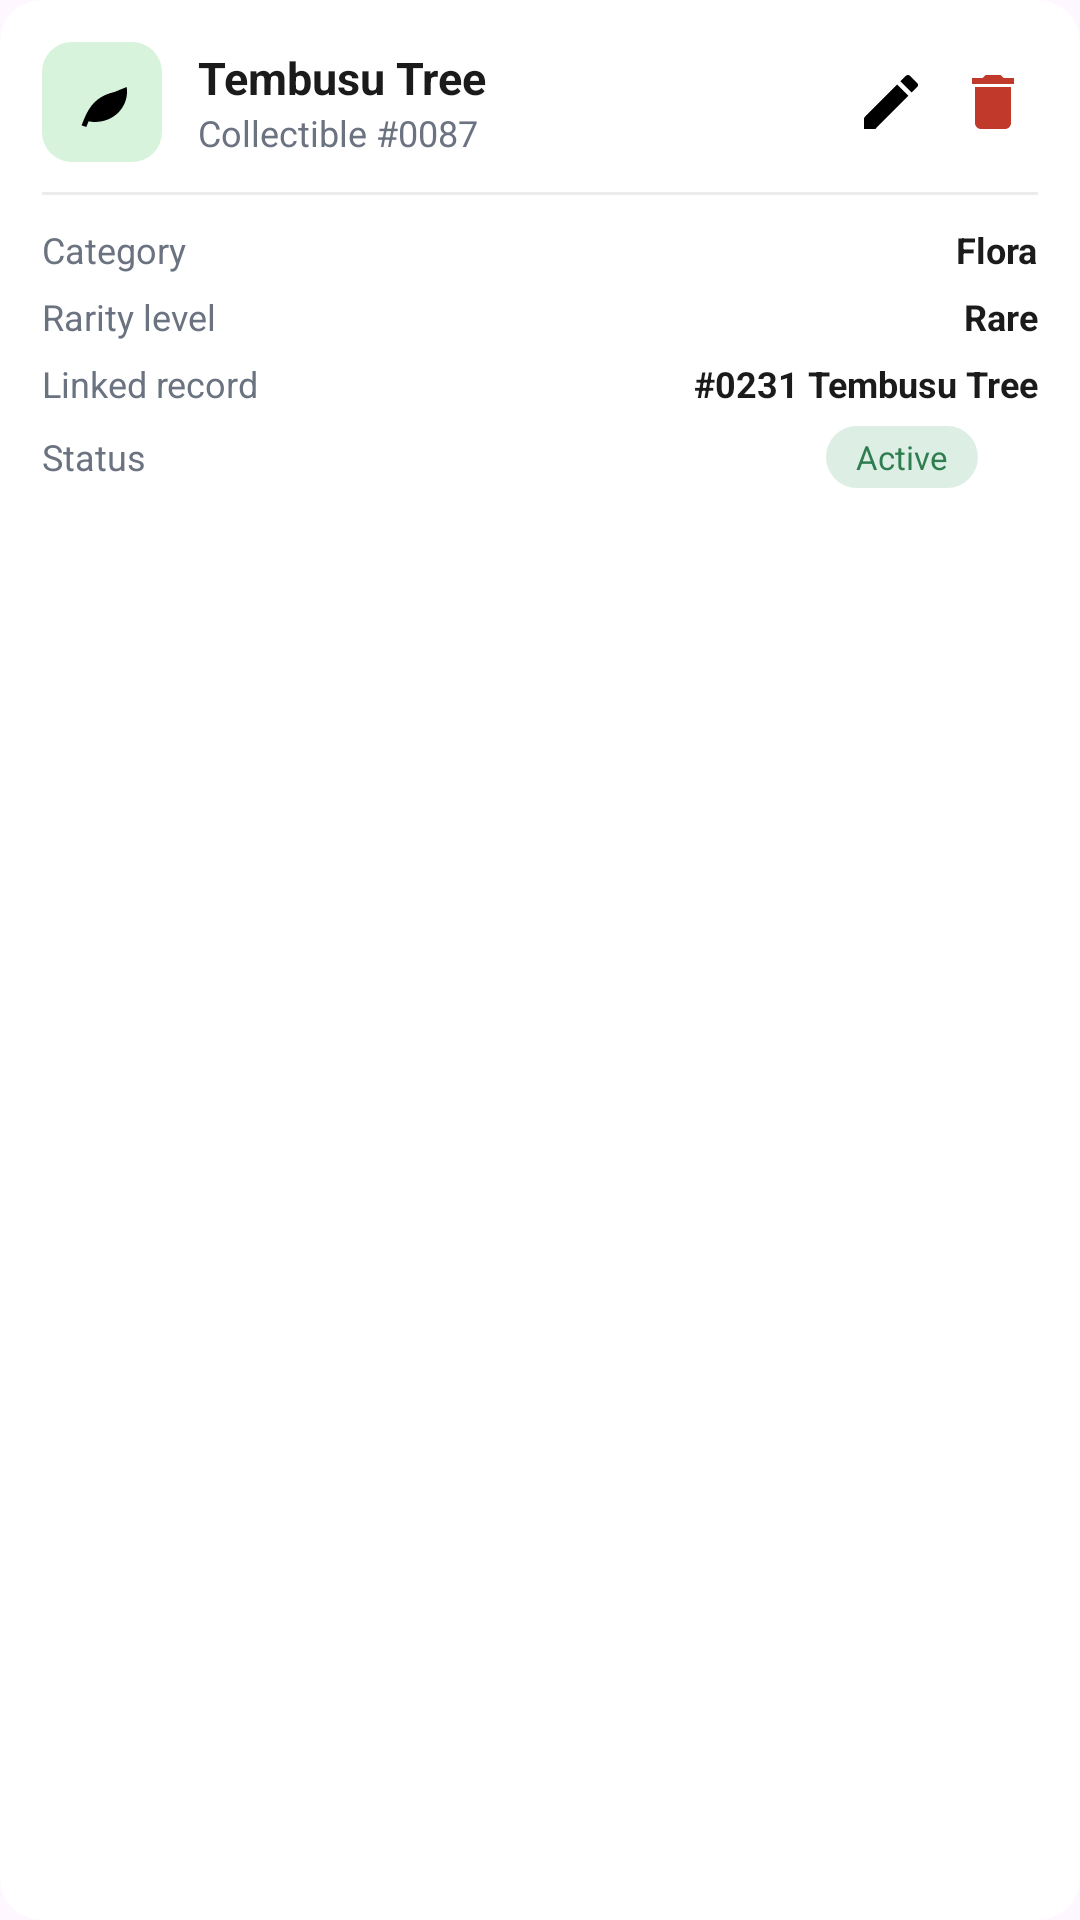

Icons on this 1080*1920 Android screen, each with the point to tap as (x=x, y=y):
Delete: (x=993, y=102)
Edit: (x=891, y=102)
